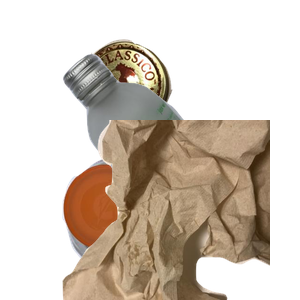glass: (60, 51, 300, 231)
metal: (78, 37, 243, 163)
plastic: (60, 152, 237, 300)
trash: (60, 120, 300, 300)
